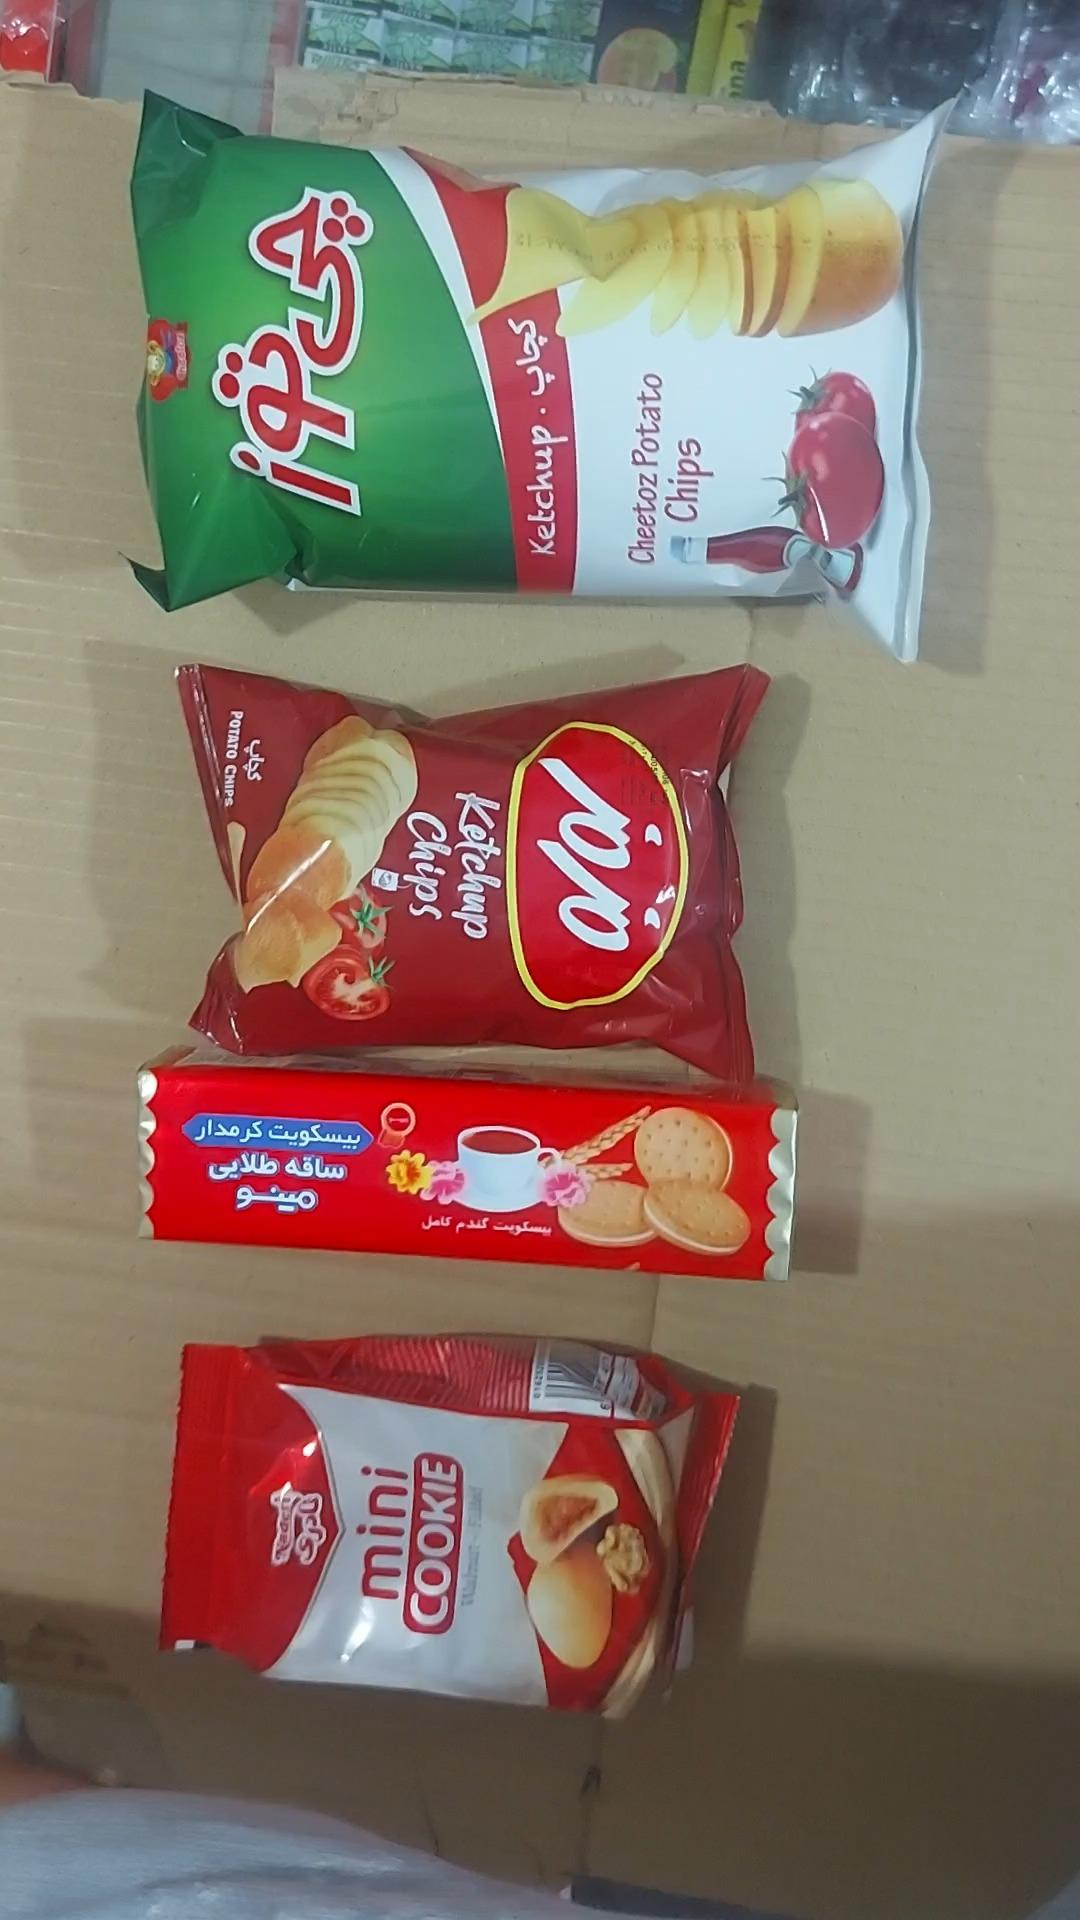Cheetoz ketchup chips: (128, 92, 953, 667)
Maz Maz ketchup chips: (175, 665, 771, 1084)
Minoo cream biscuit: (137, 1044, 798, 1282)
Naderi mini cookie: (160, 1335, 742, 1724)
